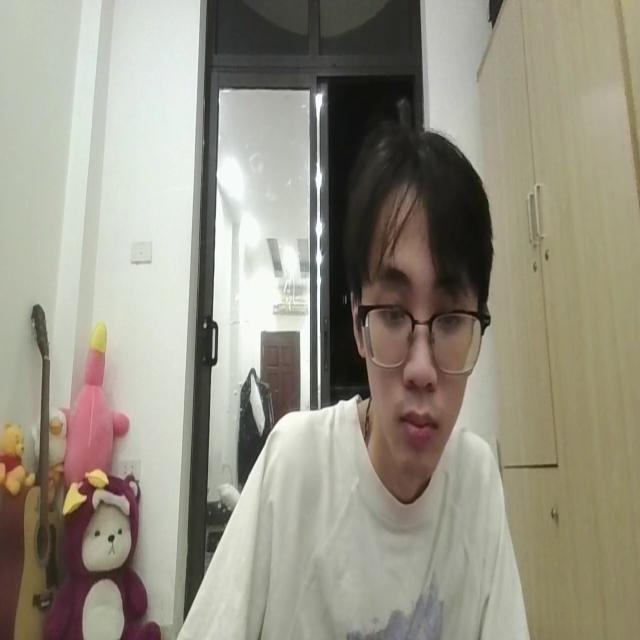student: (185, 112, 533, 640)
